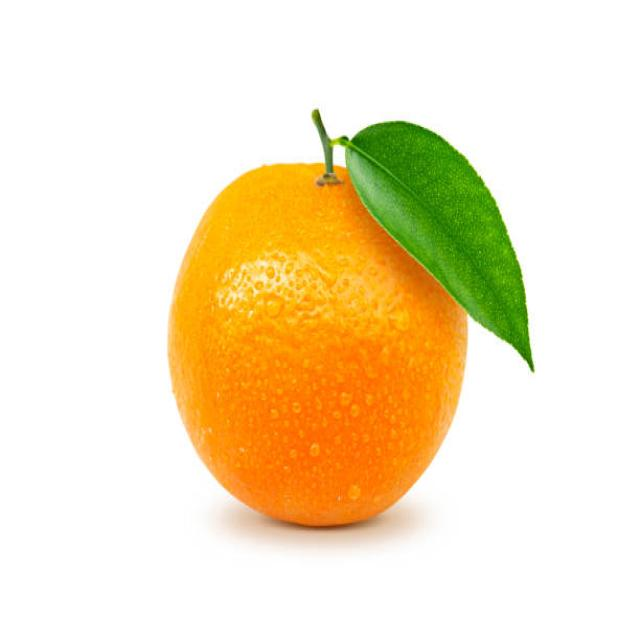Ripe: (169, 154, 473, 532)
